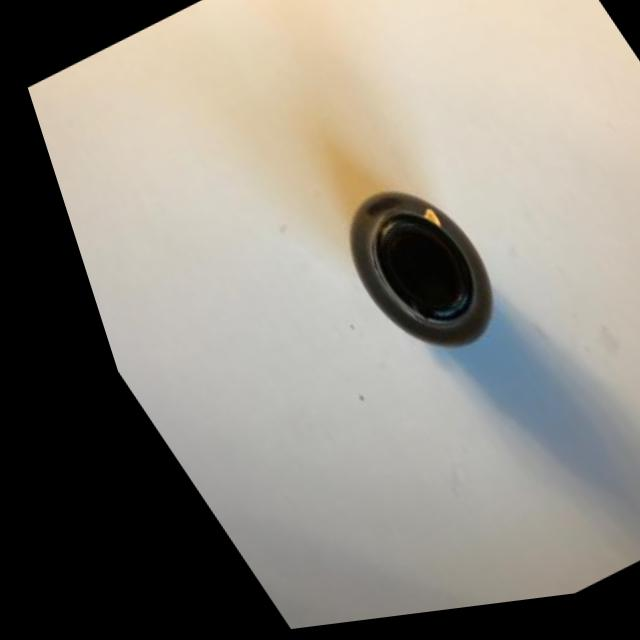glass: (219, 90, 579, 463)
